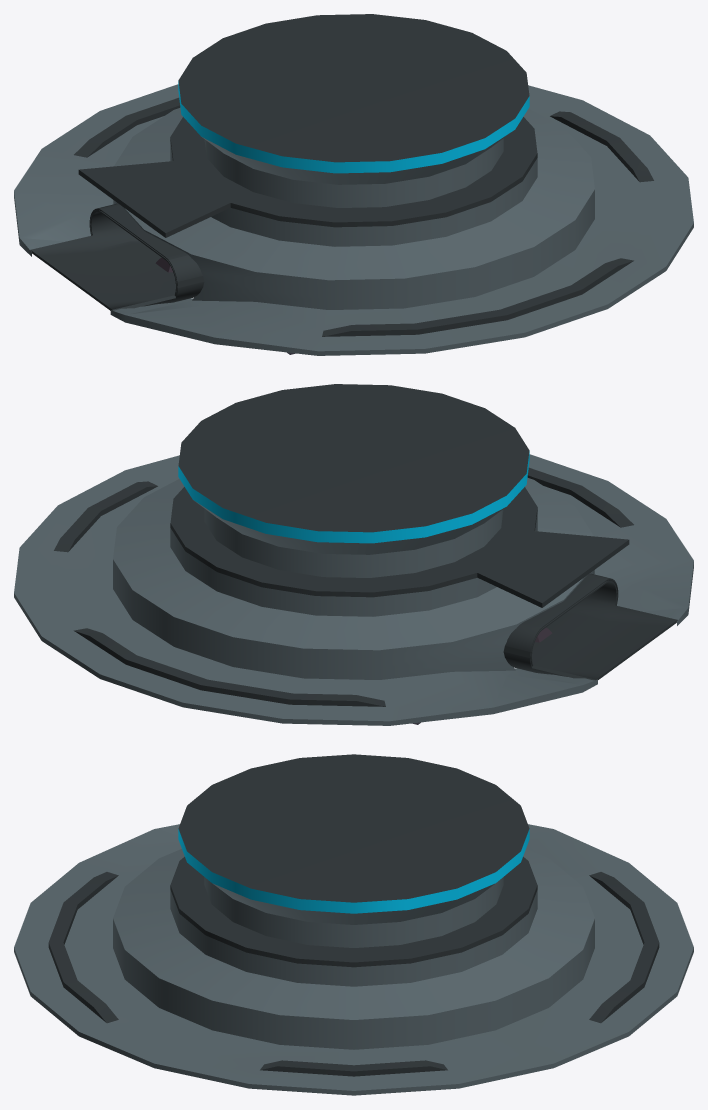
The model's file is Shemaroo_Tower_Base.fbx.
3 views of the same model, one above another, from view 1: azimuth 30°, elevation 25°; view 2: azimuth 150°, elevation 25°; view 3: azimuth 270°, elevation 25° (orthographic).
Visible parts, largest first — view 1: shemaroo_tower6:Lobby_Slope, shemaroo_tower6:MWFWalls2, shemaroo_tower6:B_LEDSHSKY_SCRAPER_V; view 2: shemaroo_tower6:Lobby_Slope, shemaroo_tower6:MWFWalls2, shemaroo_tower6:B_LEDSHSKY_SCRAPER_V; view 3: shemaroo_tower6:Lobby_Slope, shemaroo_tower6:B_LEDSHSKY_SCRAPER_V.
Boxes of the visible parts, bbox=[...] form: shemaroo_tower6:Lobby_Slope: bbox=[14, 14, 693, 355]; shemaroo_tower6:MWFWalls2: bbox=[30, 203, 204, 310]; shemaroo_tower6:B_LEDSHSKY_SCRAPER_V: bbox=[178, 81, 529, 173]; shemaroo_tower6:Lobby_Slope: bbox=[14, 384, 693, 725]; shemaroo_tower6:MWFWalls2: bbox=[503, 573, 677, 680]; shemaroo_tower6:B_LEDSHSKY_SCRAPER_V: bbox=[178, 451, 529, 543]; shemaroo_tower6:Lobby_Slope: bbox=[14, 754, 693, 1095]; shemaroo_tower6:B_LEDSHSKY_SCRAPER_V: bbox=[178, 829, 529, 913].
Bounding box in the file's own units: 9299 × 2884 × 9507.
